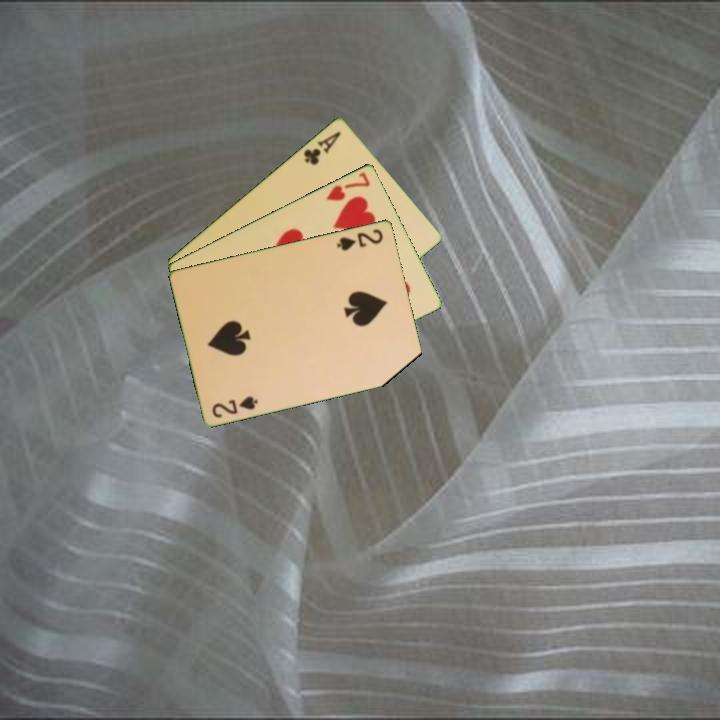2s: (333, 225, 386, 253), (209, 392, 261, 420)
7h: (322, 168, 373, 203)
Ac: (300, 127, 344, 167)
